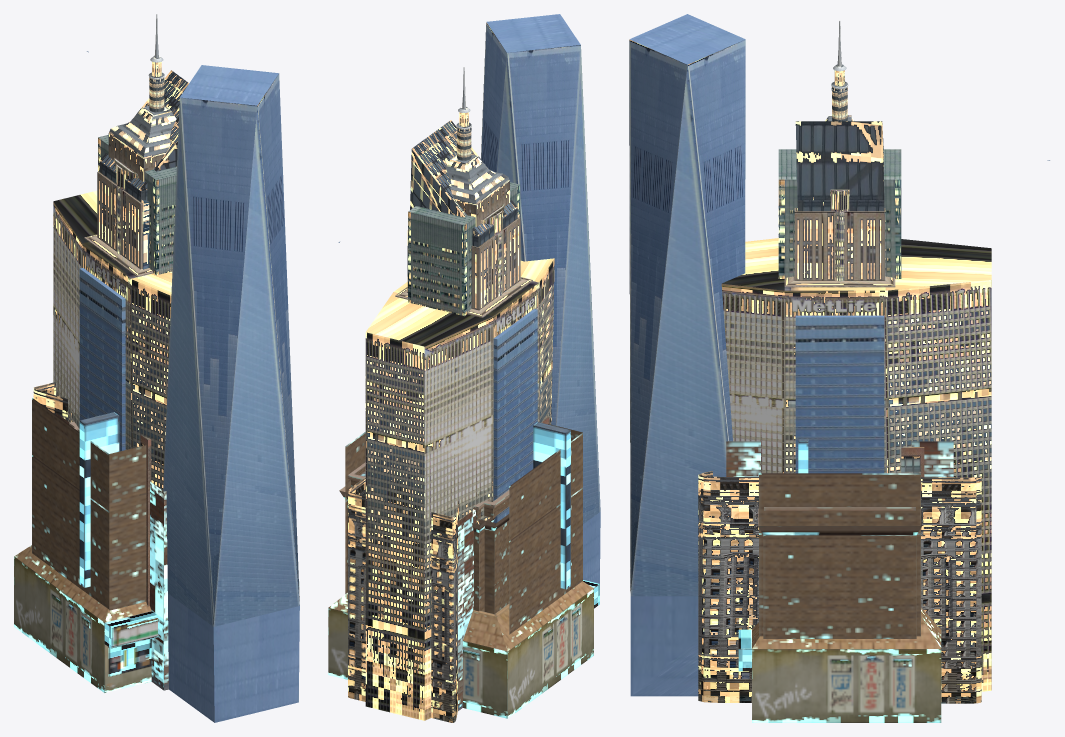
The model's file is buildings-night.glb.
3 views of the same model, side by side, from view 1: azimuth 30°, elevation 25°; view 2: azimuth 150°, elevation 25°; view 3: azimuth 270°, elevation 25° (orthographic). The views are drawn at different scales.
Visible parts, largest first — view 1: bldg_ny_14, bldg_cc_121, bldg_ny_13, bldg_cc_74, bldg_ny_12, bldg_ny_10, bldg_cc_48, bldg_ny_18, bldg_cc_26, bldg_ny_07, bldg_ny_05, bldg_ny_19 (+2 smaller); view 2: bldg_ny_13, bldg_ny_14, bldg_cc_74, bldg_cc_121, bldg_ny_19, bldg_ny_12, bldg_ny_10, bldg_ny_18, bldg_ny_07, bldg_cc_26, bldg_cc_116, bldg_cc_48 (+2 smaller); view 3: bldg_ny_14, bldg_ny_13, bldg_ny_19, bldg_cc_26, bldg_cc_74, bldg_ny_10, bldg_cc_121, bldg_ny_12, bldg_ny_07, bldg_ny_18, bldg_cc_48, bldg_ny_08.
Part boxes in pixels (<box>): bldg_ny_14: <box>87,51,299,722</box>; bldg_cc_121: <box>32,398,146,610</box>; bldg_ny_13: <box>53,190,172,490</box>; bldg_cc_74: <box>14,545,299,692</box>; bldg_ny_12: <box>84,14,176,277</box>; bldg_ny_10: <box>79,268,125,451</box>; bldg_cc_48: <box>56,413,168,690</box>; bldg_ny_18: <box>98,135,176,275</box>; bldg_cc_26: <box>79,412,119,587</box>; bldg_ny_07: <box>99,70,188,201</box>; bldg_ny_05: <box>140,435,151,606</box>; bldg_ny_19: <box>33,382,67,420</box>; bldg_ny_13: <box>365,258,554,720</box>; bldg_ny_14: <box>338,14,600,583</box>; bldg_cc_74: <box>328,580,599,718</box>; bldg_cc_121: <box>345,424,582,634</box>; bldg_ny_19: <box>348,477,459,722</box>; bldg_ny_12: <box>395,67,532,317</box>; bldg_ny_10: <box>493,309,537,522</box>; bldg_ny_18: <box>408,182,520,315</box>; bldg_ny_07: <box>410,120,517,246</box>; bldg_cc_26: <box>339,422,570,592</box>; bldg_cc_116: <box>478,495,509,614</box>; bldg_cc_48: <box>458,509,476,710</box>; bldg_ny_14: <box>629,14,1049,696</box>; bldg_ny_13: <box>721,238,991,691</box>; bldg_ny_19: <box>698,471,981,703</box>; bldg_cc_26: <box>758,439,921,638</box>; bldg_cc_74: <box>738,608,941,722</box>; bldg_ny_10: <box>795,315,884,473</box>; bldg_cc_121: <box>759,473,920,636</box>; bldg_ny_12: <box>784,20,895,287</box>; bldg_ny_07: <box>795,121,884,211</box>; bldg_ny_18: <box>778,149,901,278</box>; bldg_cc_48: <box>726,441,953,477</box>; bldg_ny_08: <box>830,189,849,281</box>.
Size of the model in its own units: 120 by 381 by 222.
41 materials, 40 textured.
